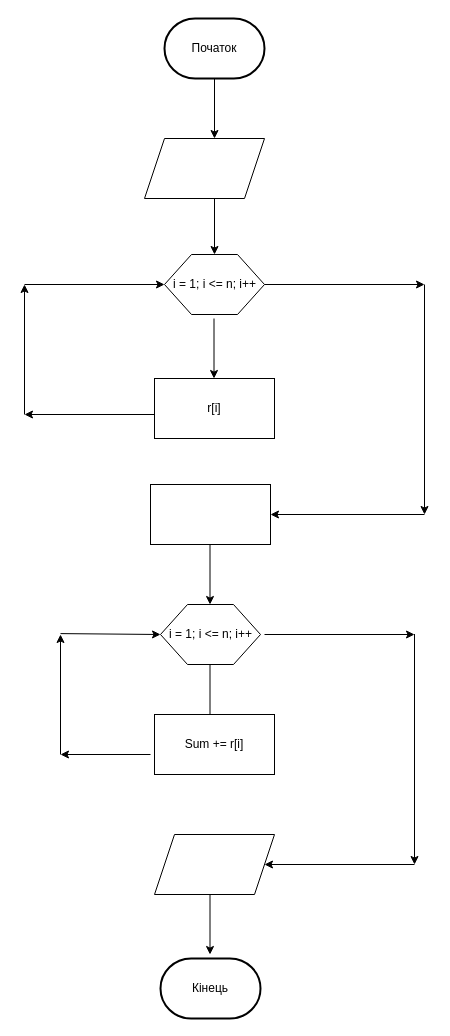
The diagram is 450 pixels wide and 1036 high, and some of its shapes have lost their labels. The shapes that lost their labels are listed below. From the top down, each one's centre as x and y in pixels, then its label:
At [204,168]: "n, r[100], Sum, i".
At [210,514]: "S=0".
At [214,864]: "Sum".
